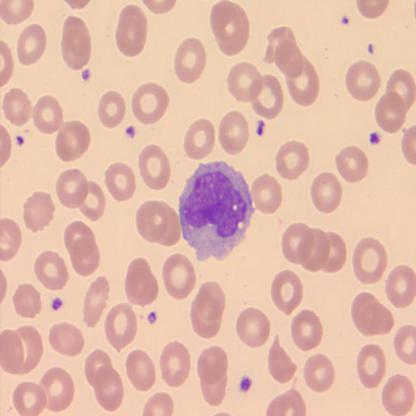Monocyte: (177, 158, 256, 262)
